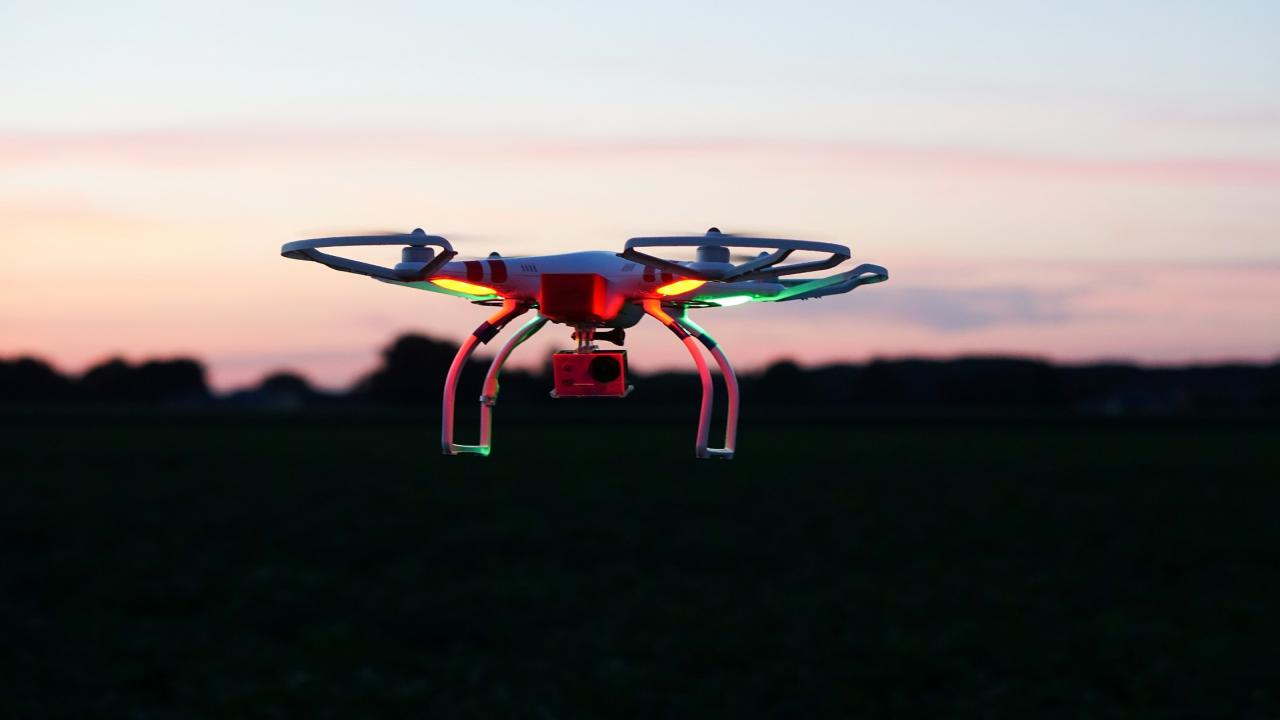Drone: (252, 194, 915, 477)
